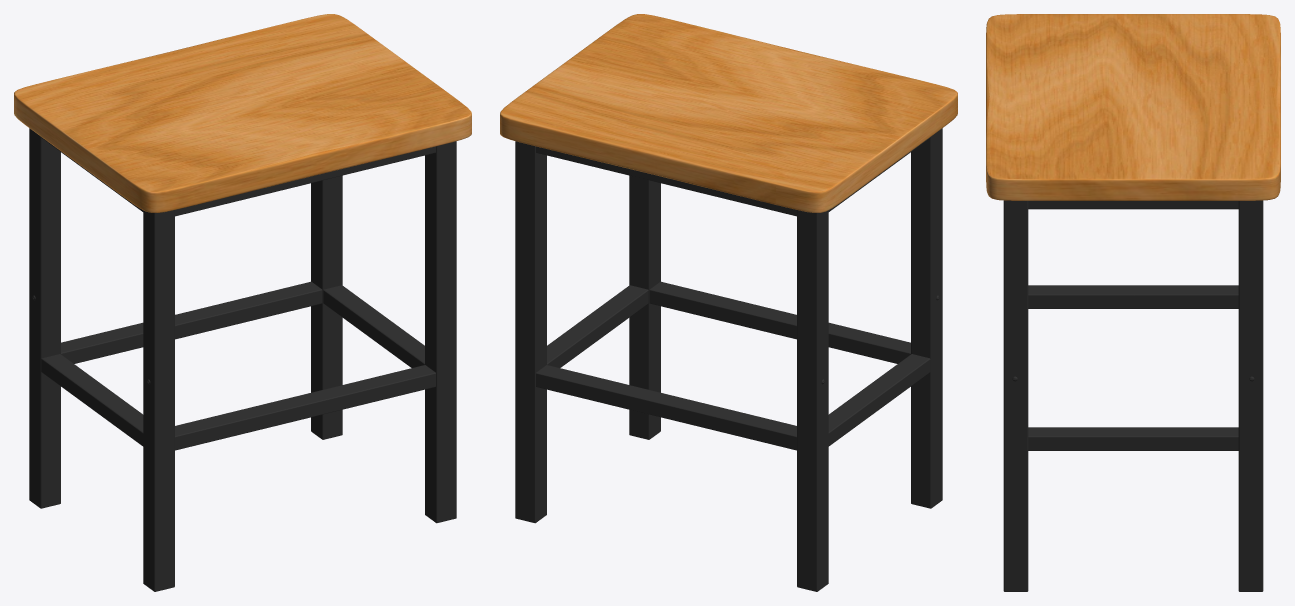
3 views of the same model, side by side, from view 1: azimuth 30°, elevation 25°; view 2: azimuth 150°, elevation 25°; view 3: azimuth 270°, elevation 25° (orthographic). The views are drawn at different scales.
Visible parts, largest first — view 1: Legs, Seat.001; view 2: Legs, Seat.001; view 3: Seat.001, Legs.
Boxes of the visible parts, bbox=[...] form: Legs: bbox=[29, 128, 456, 591]; Seat.001: bbox=[14, 14, 471, 212]; Legs: bbox=[515, 128, 942, 591]; Seat.001: bbox=[500, 14, 957, 212]; Seat.001: bbox=[986, 14, 1280, 200]; Legs: bbox=[1003, 200, 1263, 591].
Size of the model in its own units: 40.64 by 47.89 by 30.48.
